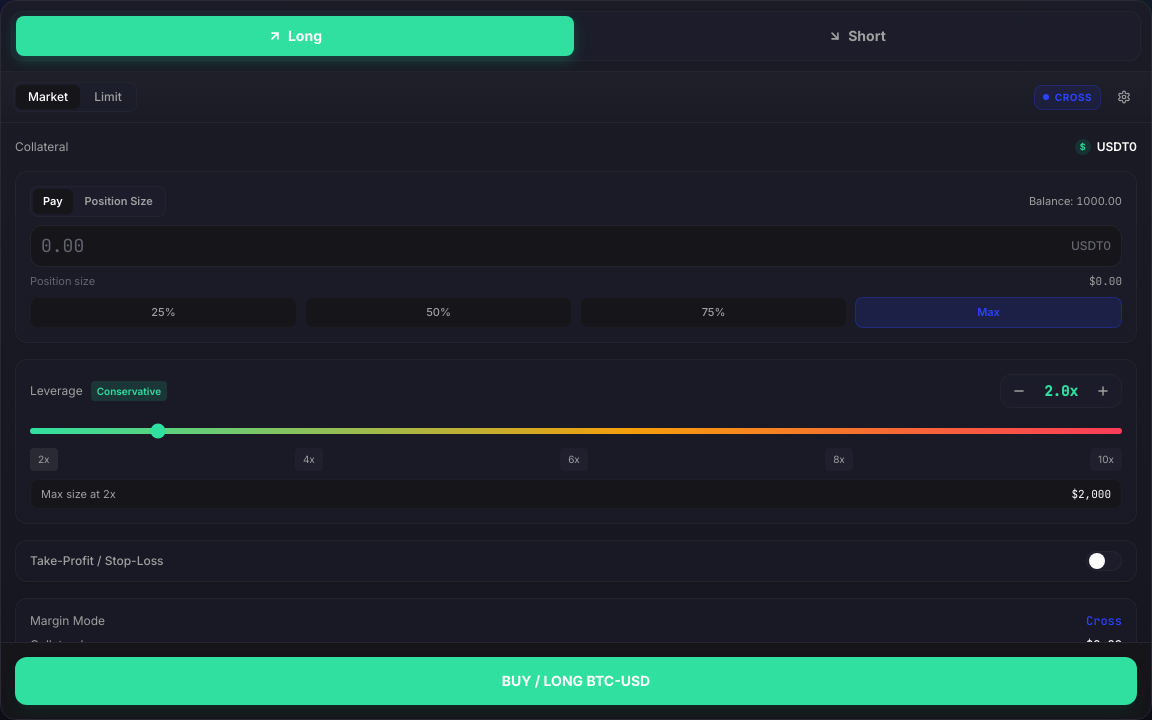
Scenario: TradingForm › toggles between Long and Short
Click the button "Short" at (857, 36), box [578, 16, 1136, 56]
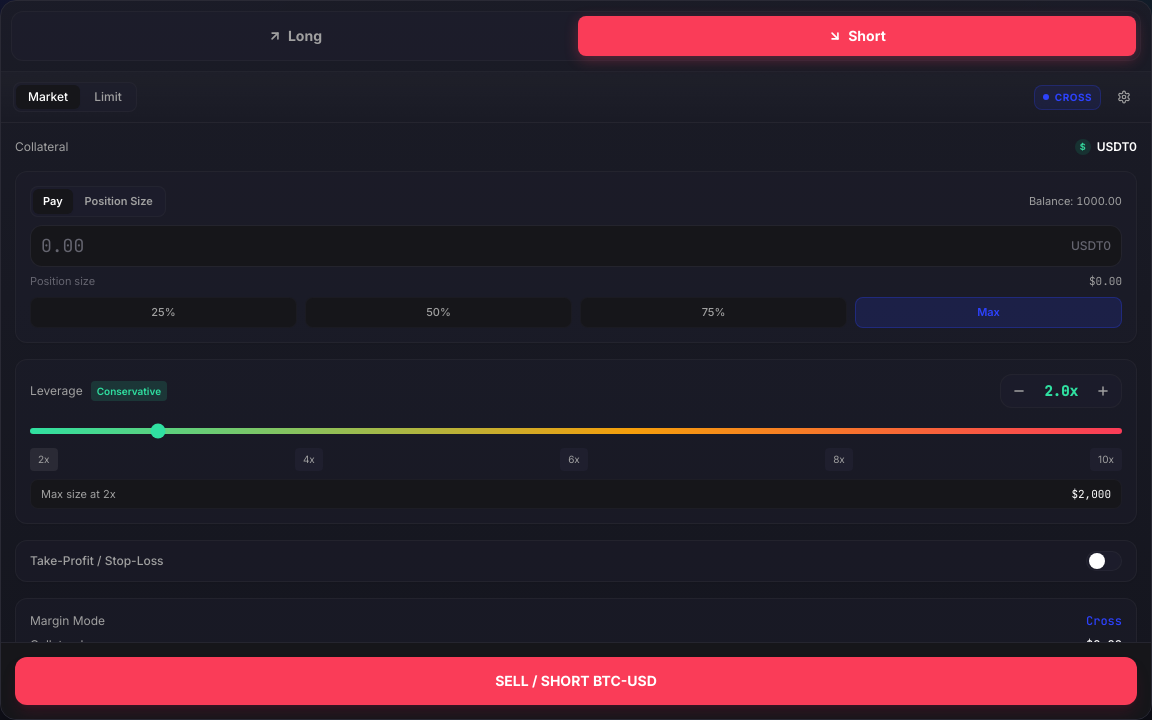
Expected: the button "Sell / Short BTC-USD" is shown, [15, 657, 1137, 705]
Click the button "Long" at (295, 36), box [16, 16, 574, 56]
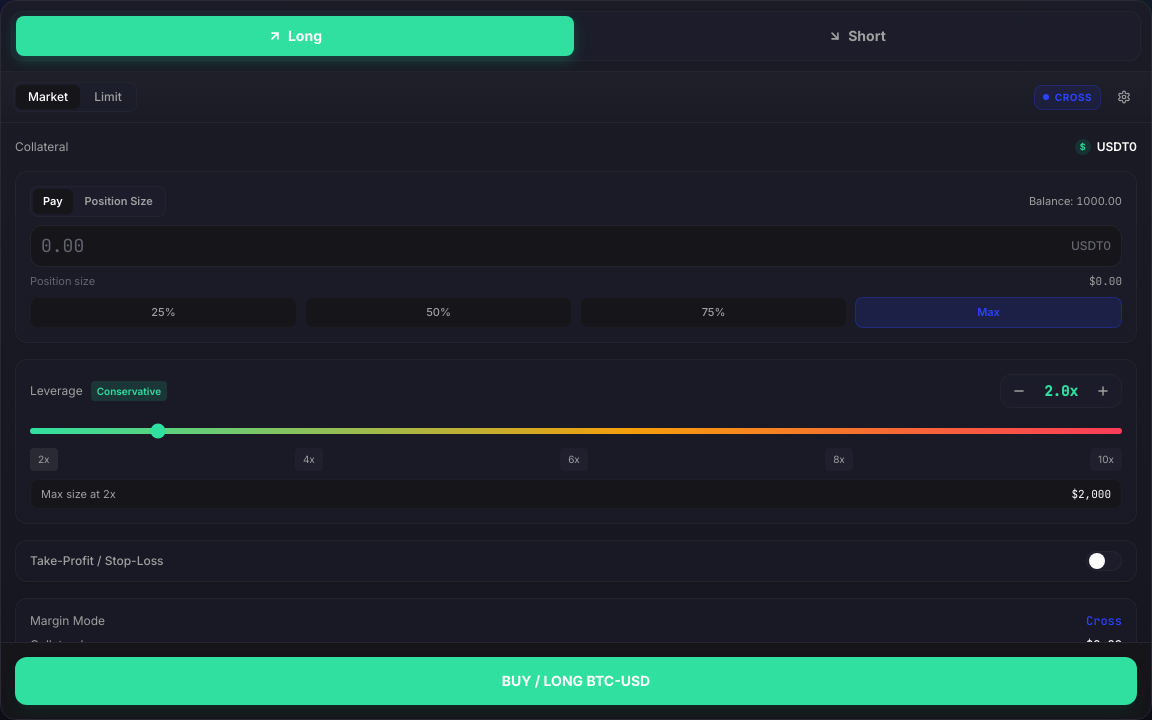
Expected: the button "Buy / Long BTC-USD" is shown, [15, 657, 1137, 705]
